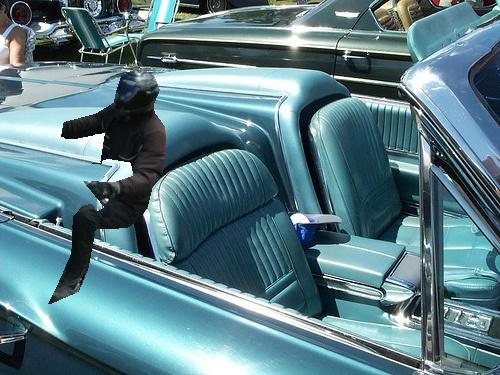tampered: (49, 69, 166, 304)
